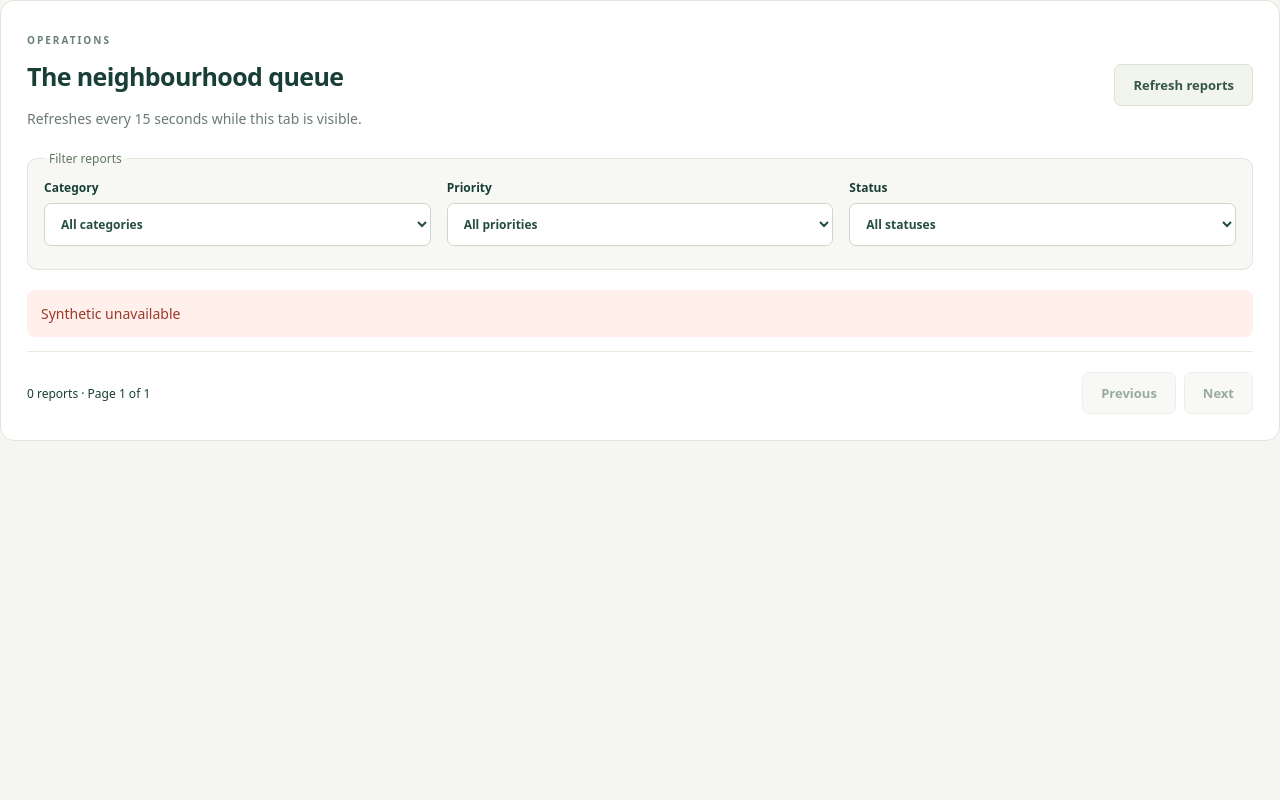
operations dashboard › shows a load failure and supports retry
Expected: the message reads "Synthetic unavailable", [41,304,180,323]
Click the button "Refresh reports" at {"x": 1184, "y": 84}, box [1114,64,1253,106]
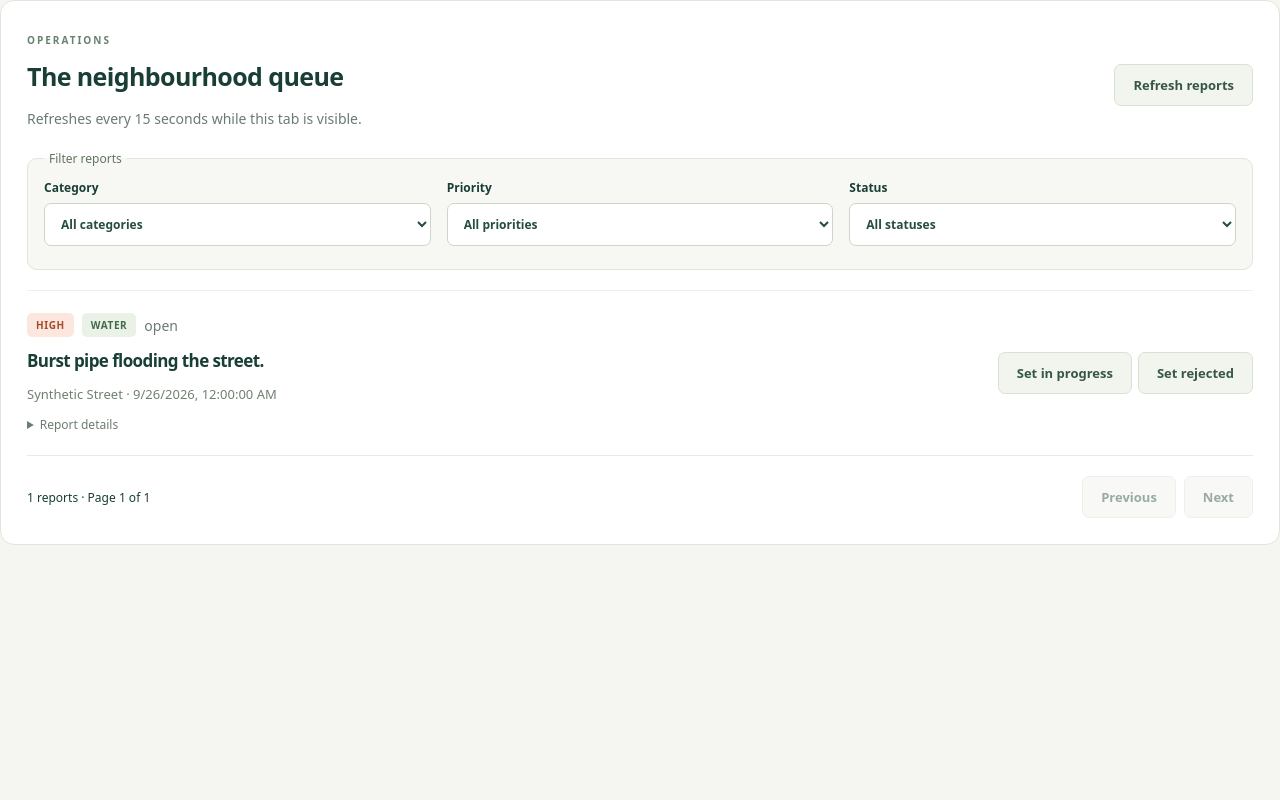
Now the heading "Burst pipe flooding the street." is shown, box [27,349,277,372]
Now the message "Synthetic unavailable" is gone
